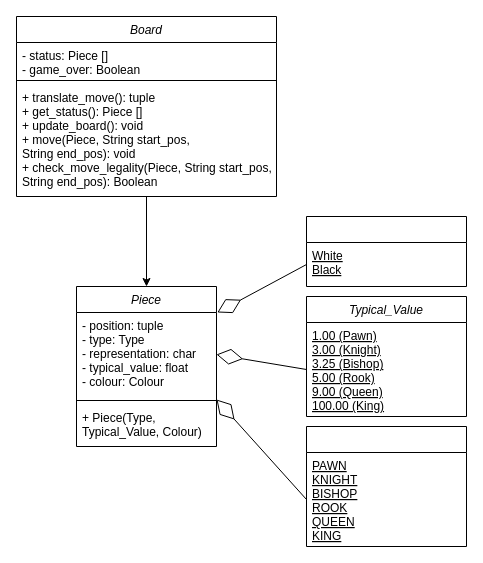
Some shapes in this 483 by 563 pixel diagram are drawn without their labels. Each missing label, with the box of its shape:
Colour: (306, 216, 466, 286)
Type: (306, 426, 466, 546)
